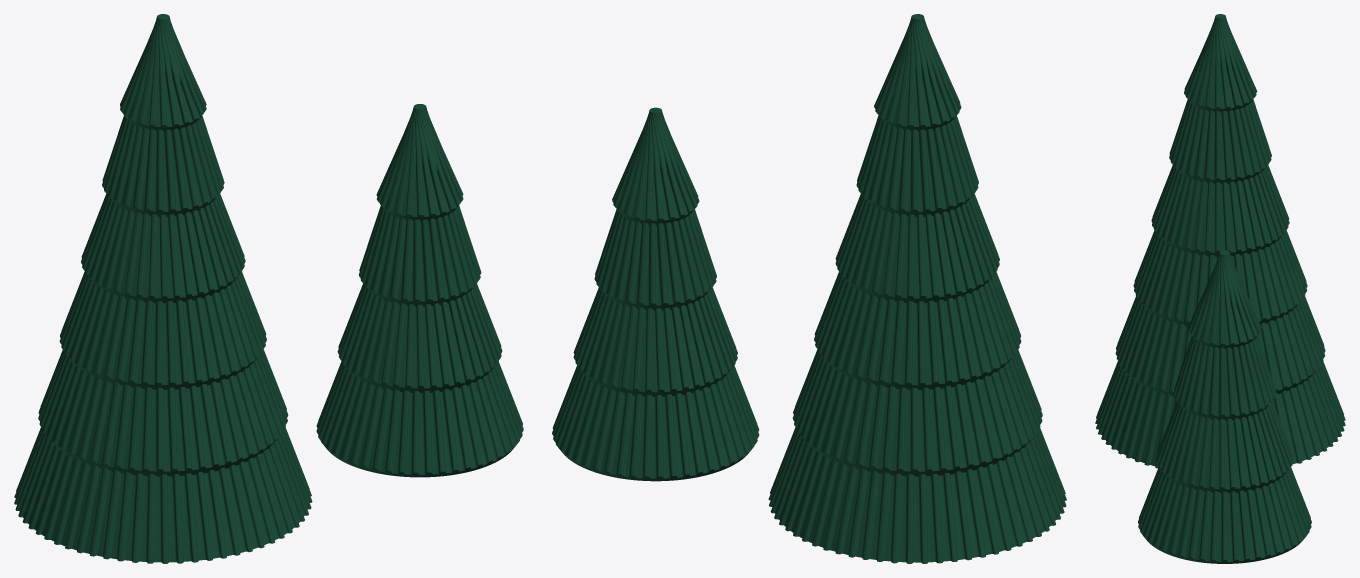
File: albero_japandi_3D2K_anteprima.glb
The picture shows the model from 3 angles, left to right: view 1: azimuth 30°, elevation 25°; view 2: azimuth 150°, elevation 25°; view 3: azimuth 270°, elevation 25°; orthographic projection. The views are drawn at different scales.
Visible parts, largest first — view 1: Big.stl_fil1, Kleiner_Baum.stl_fil1; view 2: Big.stl_fil1, Kleiner_Baum.stl_fil1; view 3: Big.stl_fil1, Kleiner_Baum.stl_fil1.
Boxes of the visible parts, bbox=[...] form: Big.stl_fil1: bbox=[14, 14, 312, 563]; Kleiner_Baum.stl_fil1: bbox=[316, 104, 523, 477]; Big.stl_fil1: bbox=[768, 14, 1066, 563]; Kleiner_Baum.stl_fil1: bbox=[552, 107, 759, 481]; Big.stl_fil1: bbox=[1095, 14, 1345, 468]; Kleiner_Baum.stl_fil1: bbox=[1138, 250, 1311, 563].
Size of the model in its own units: 0.1291 by 0.1249 by 0.0697.
